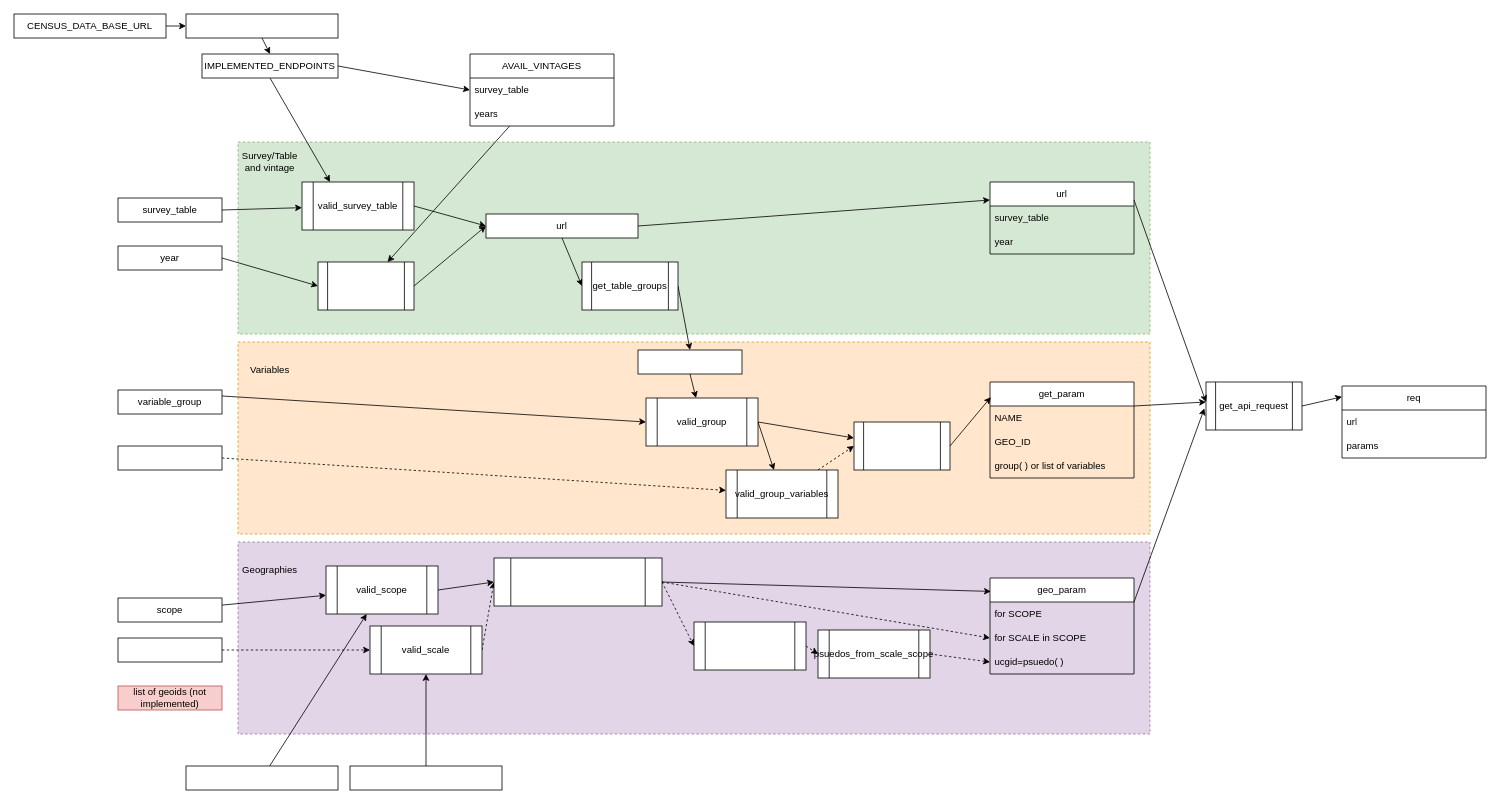
Image size: 1500x804. Some labels were removed from this diagram. Each missing label, with the centre of its shape:
"ALL_AVAIL_ENPOINTS" goes at point 261,25.
"geo_params_from_scope_scale" goes at point 577,581.
"geoids_from_scope" goes at point 749,645.
"get_params" goes at point 901,445.
"scale (optional)" goes at point 169,649.
"SCOPES" goes at point 261,777.
"SUMLEVEL_DESCRIPTIONS" goes at point 425,777.
"valid_vintage" goes at point 365,285.
"VARIABLE_GROUPS" goes at point 689,361.
"variables (optional)" goes at point 169,457.
